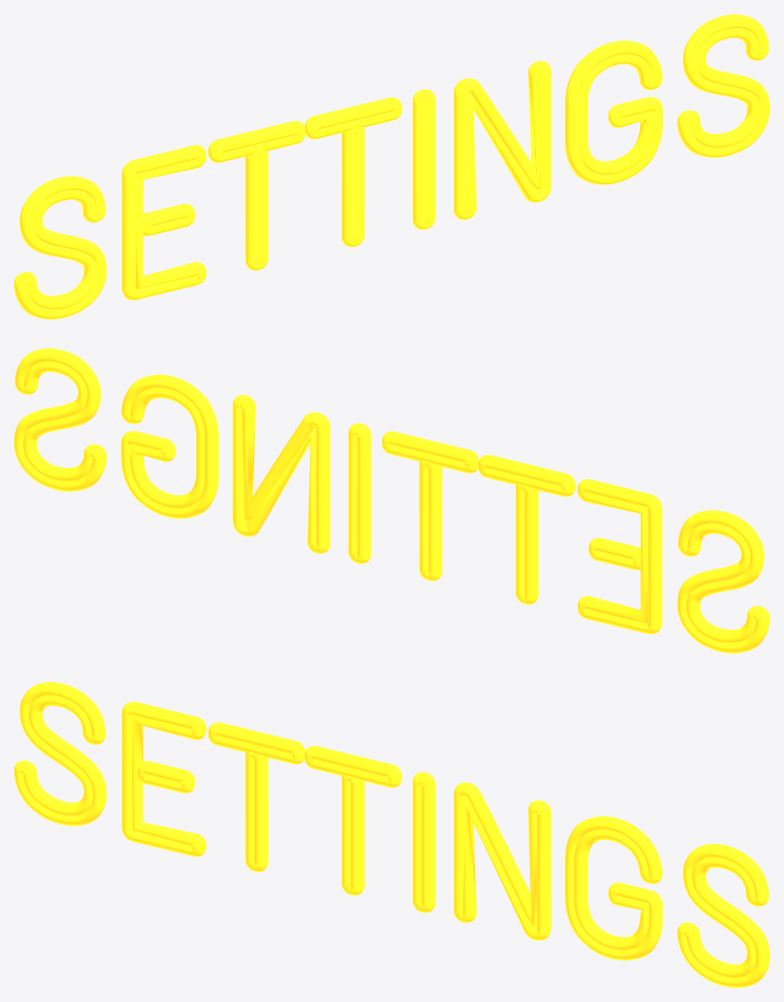
The model's file is SETTINGSTextNeon.fbx.
3 views of the same model, one above another, from view 1: azimuth 30°, elevation 25°; view 2: azimuth 150°, elevation 25°; view 3: azimuth 330°, elevation 25° (orthographic).
Parts seen in each view (by area): view 1: Text; view 2: Text; view 3: Text.
Part boxes in pixels (x1,y1,x2,y2): Text: (14,14,769,319); Text: (14,348,769,653); Text: (14,682,769,987).
Bounding box in the file's own units: 3.6 × 0.6399 × 0.06.
